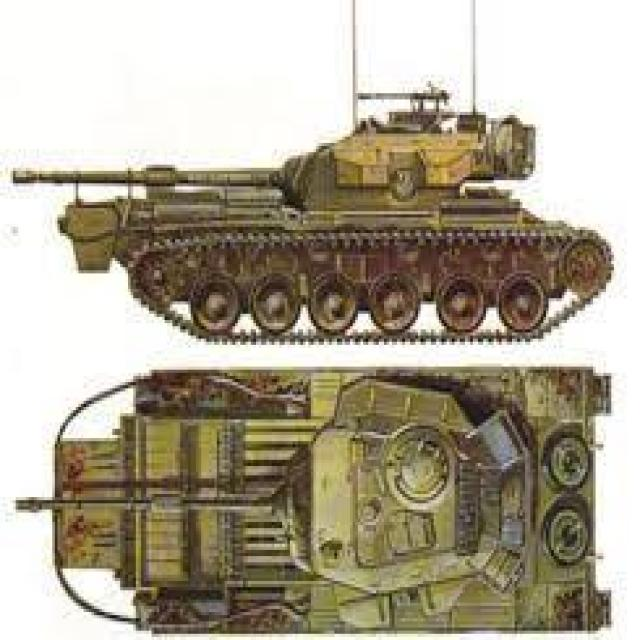Tanks: (43, 360, 615, 631), (46, 107, 620, 356)
